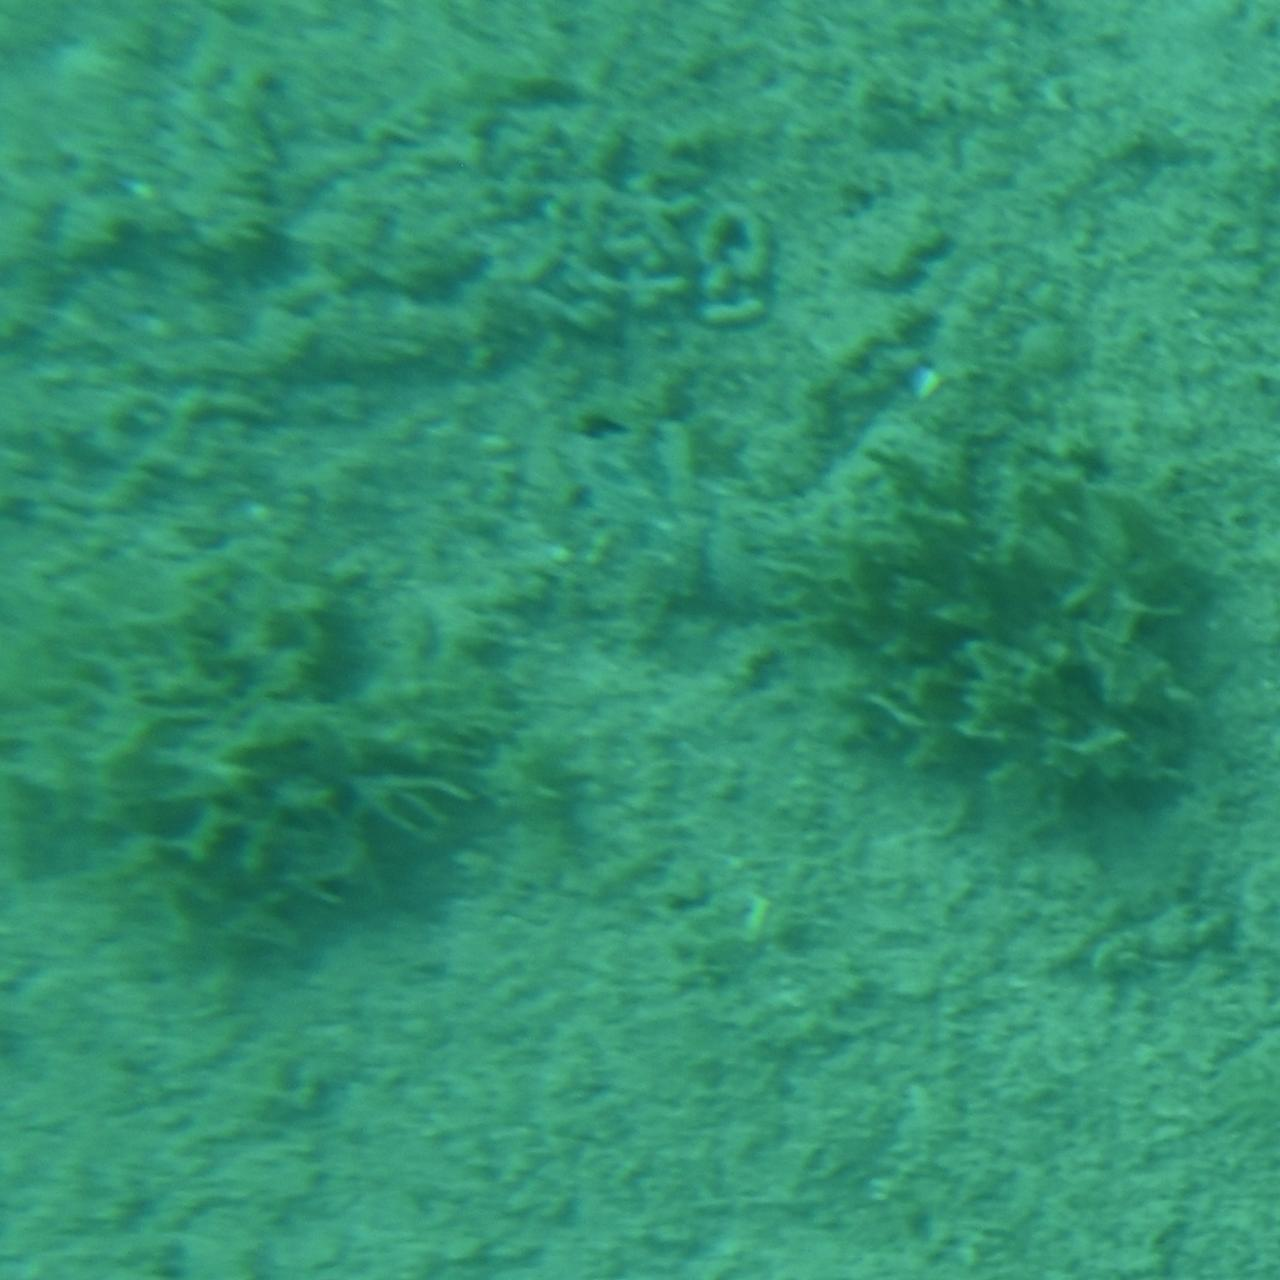Holothuria tubulosa: (674, 381, 986, 639)
Phaeophyceae -cfr Cystoseira-: (791, 427, 1217, 907), (29, 565, 525, 976)
